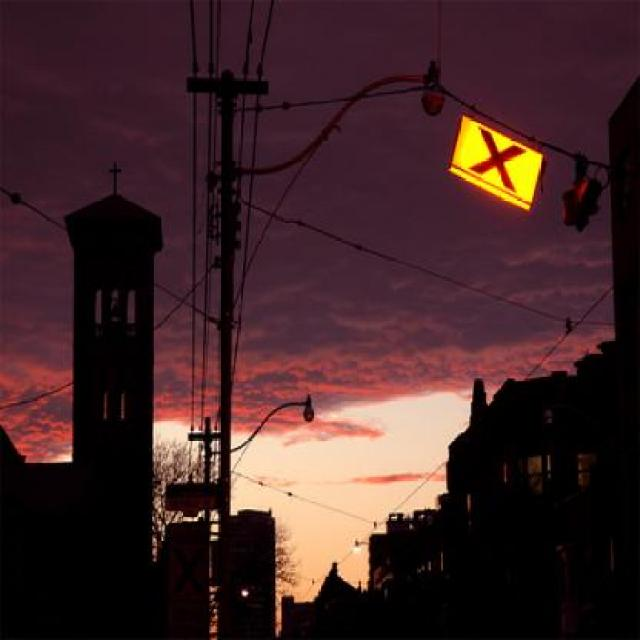pole: (180, 27, 262, 616)
